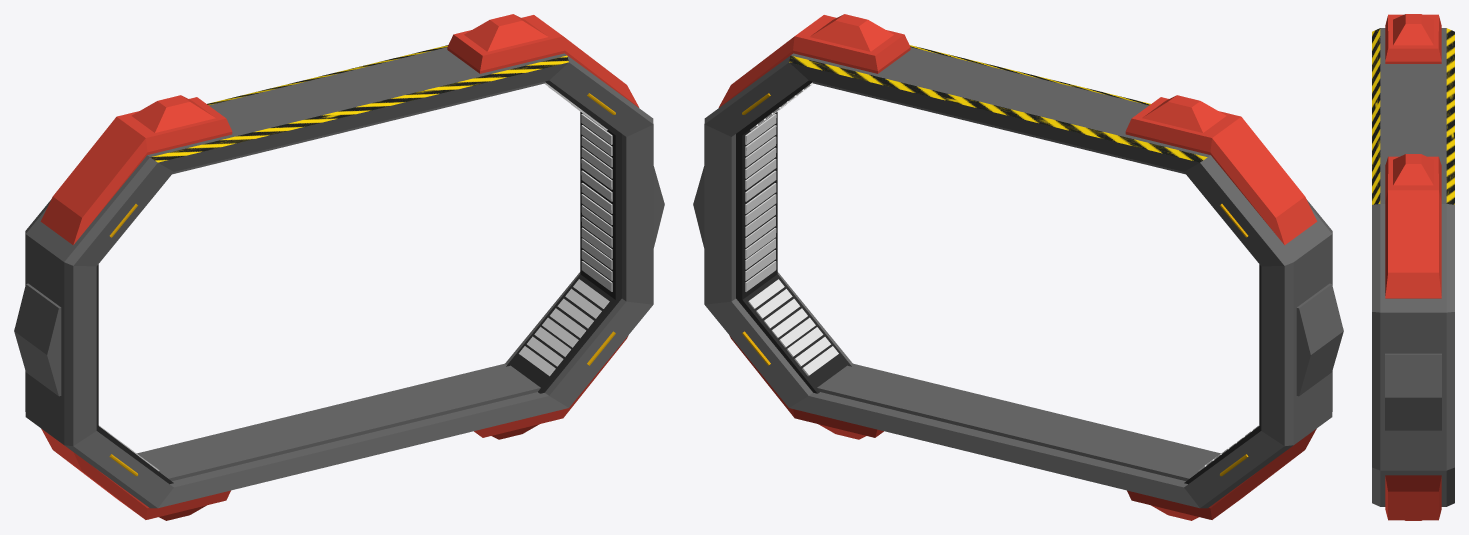
Rendered from tractorPortal 1.fbx.
3 views of the same model, side by side, from view 1: azimuth 30°, elevation 25°; view 2: azimuth 150°, elevation 25°; view 3: azimuth 270°, elevation 25° (orthographic). The views are drawn at different scales.
Visible parts, largest first — view 1: portal, portalLights; view 2: portal, portalLights; view 3: portal.
Part boxes in pixels (bbox=[...]): portal: bbox=[14, 14, 664, 520]; portalLights: bbox=[98, 82, 612, 471]; portal: bbox=[693, 14, 1343, 520]; portalLights: bbox=[745, 82, 1259, 471]; portal: bbox=[1372, 14, 1454, 520].
Bounding box in the file's own units: 1467 × 938 × 197.
